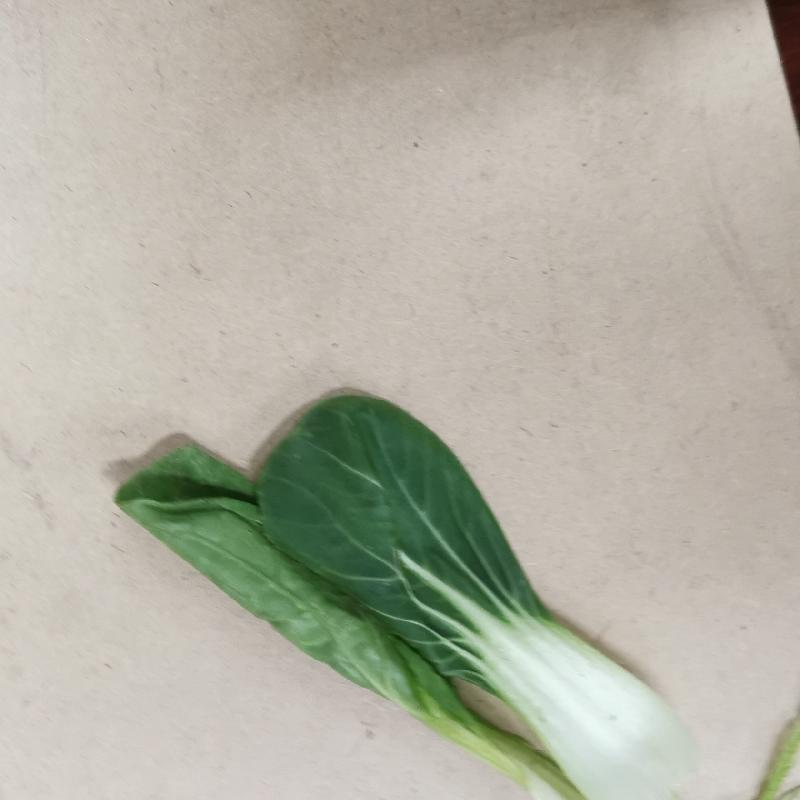green vegatable: (109, 386, 799, 800)
